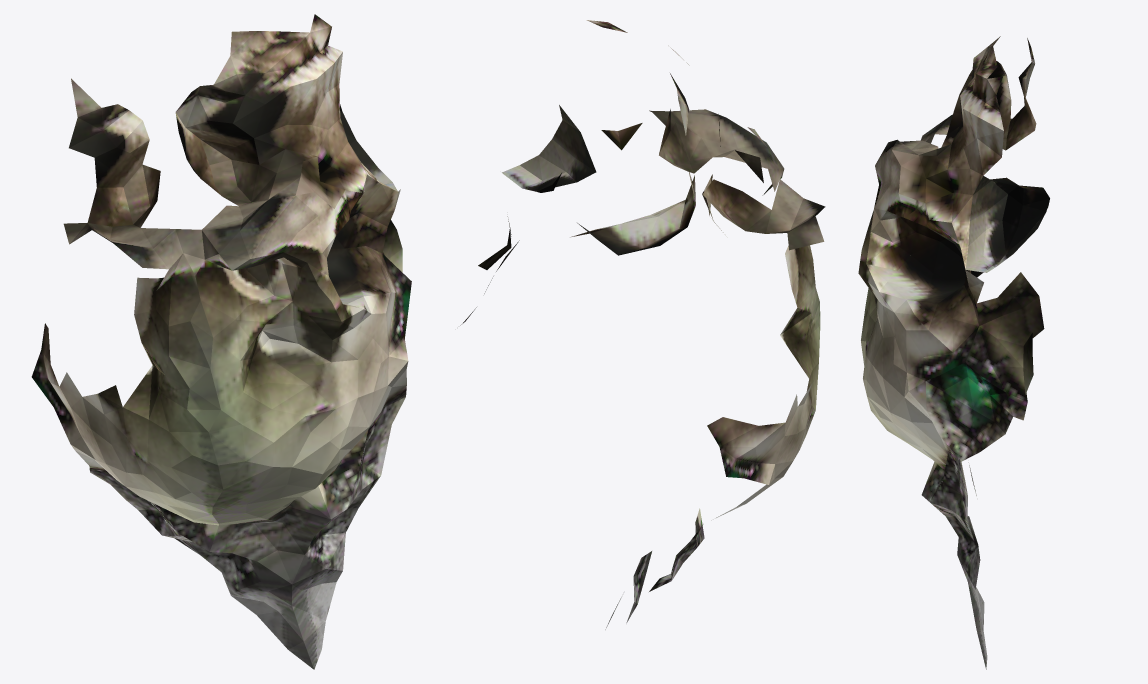
File: w_lich_staff.glb
3 views of the same model, side by side, from view 1: azimuth 30°, elevation 25°; view 2: azimuth 150°, elevation 25°; view 3: azimuth 270°, elevation 25° (orthographic). The views are drawn at different scales.
Visible parts, largest first — view 1: geometry_0; view 2: geometry_0; view 3: geometry_0.
Boxes of the visible parts, x1,y1,x2,y2 form: geometry_0: (31, 14, 411, 669); geometry_0: (460, 20, 825, 629); geometry_0: (858, 36, 1049, 669).
Size of the model in its own units: 0.5078 by 0.8892 by 0.369.
1 material, 1 textured.
